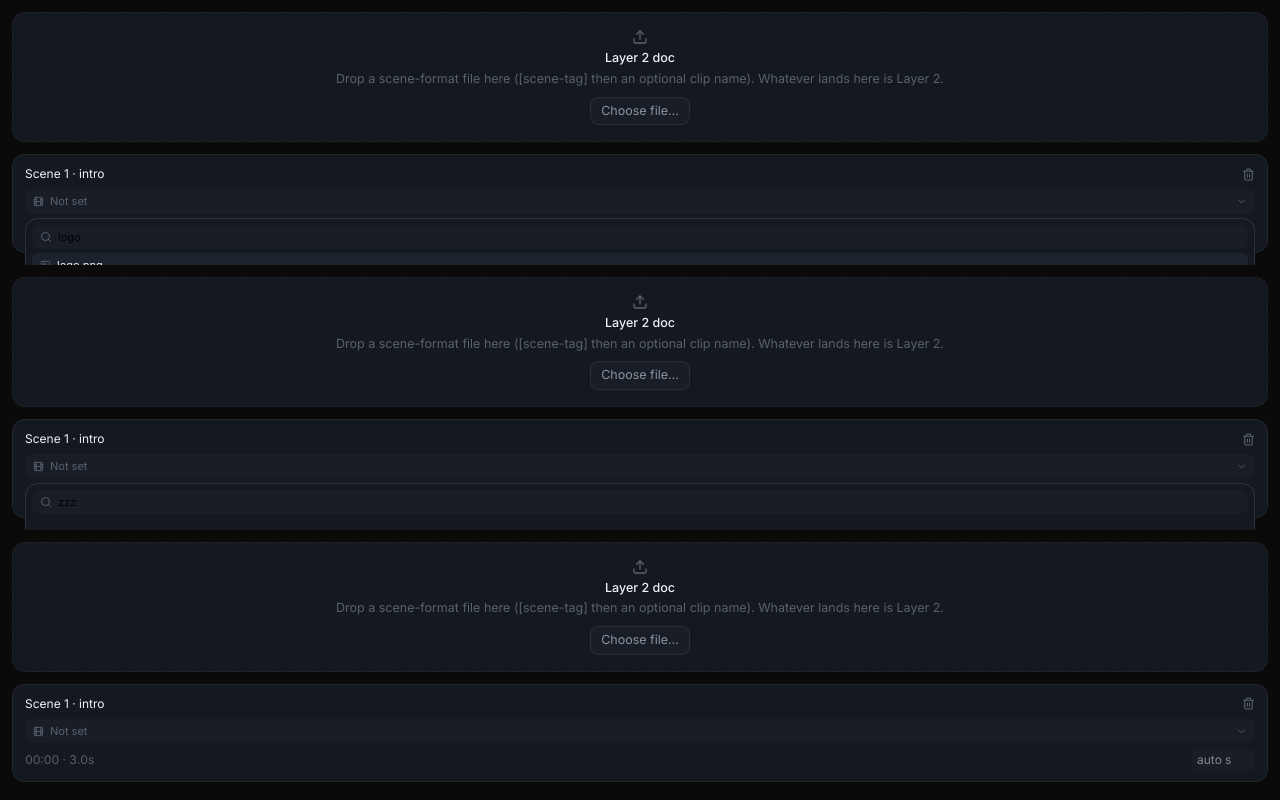
Test: media dropdown + search › click selects: binds assetId only — the doc's clipName (what the wand re-binds by) is untouched
Click the button with test id "layer2-media-a".
click(69, 731)  # box [25,719,1255,743]
(page scrolled)
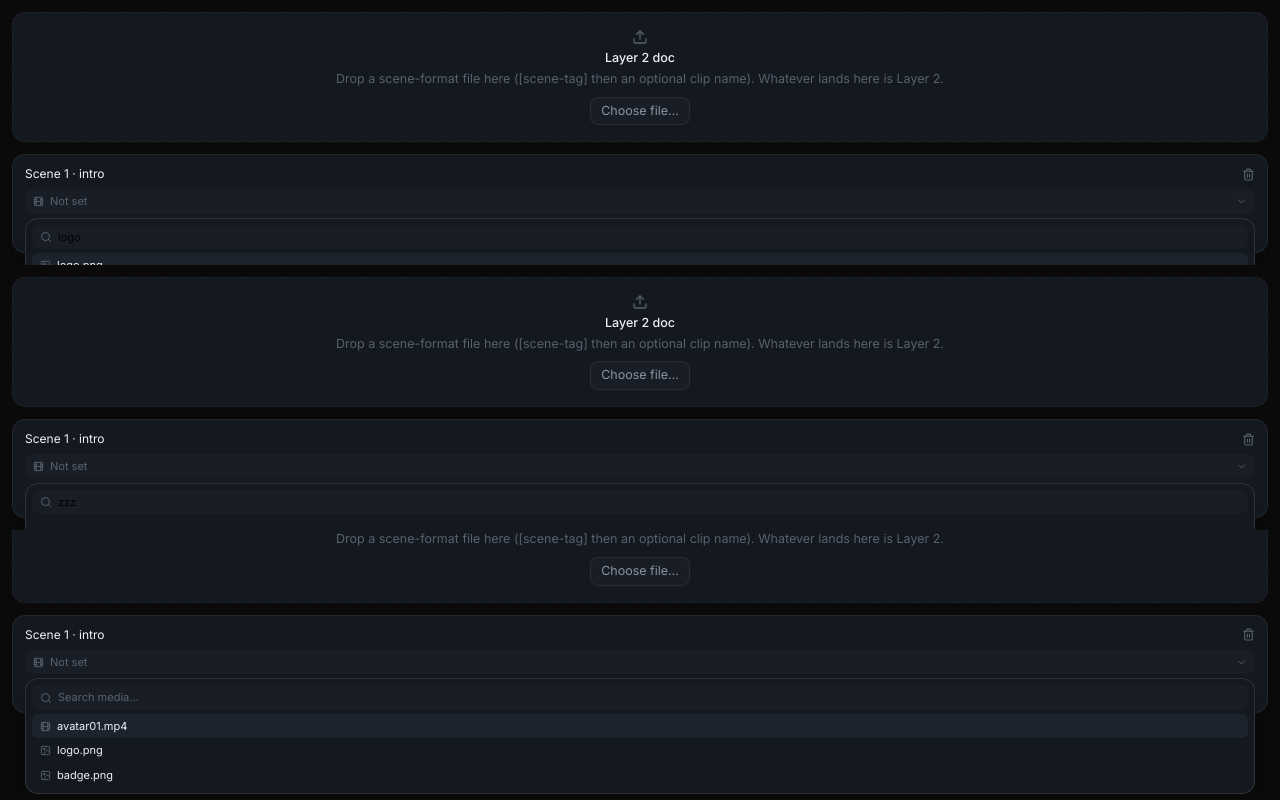
Click the option with test id "layer2-media-option-i2".
click(85, 775)  # box [32,763,1248,787]
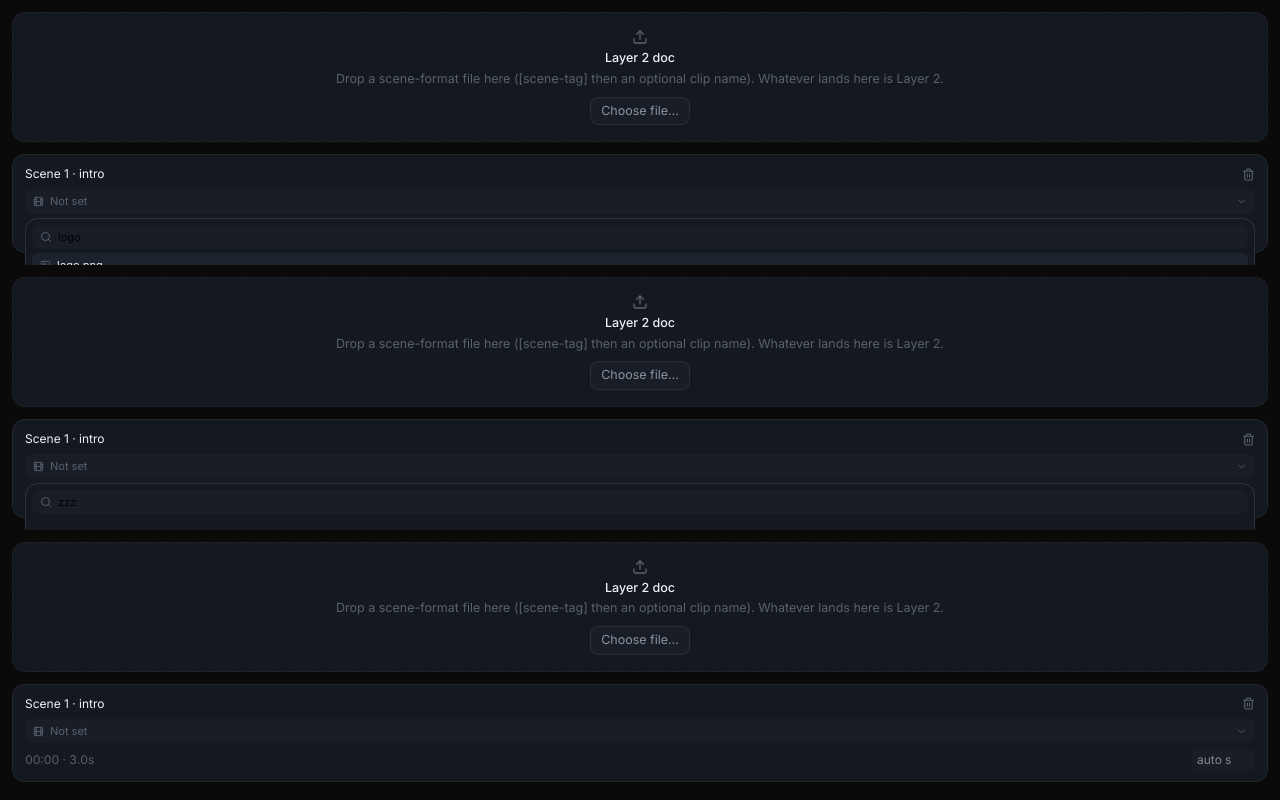
Expected: the list "avatar01.mp4 logo.png badge.png" is gone
